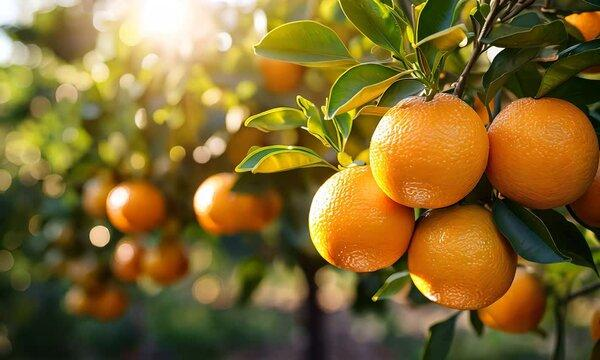orange: (366, 88, 488, 213), (489, 94, 600, 207), (306, 161, 418, 272), (408, 203, 519, 313)
